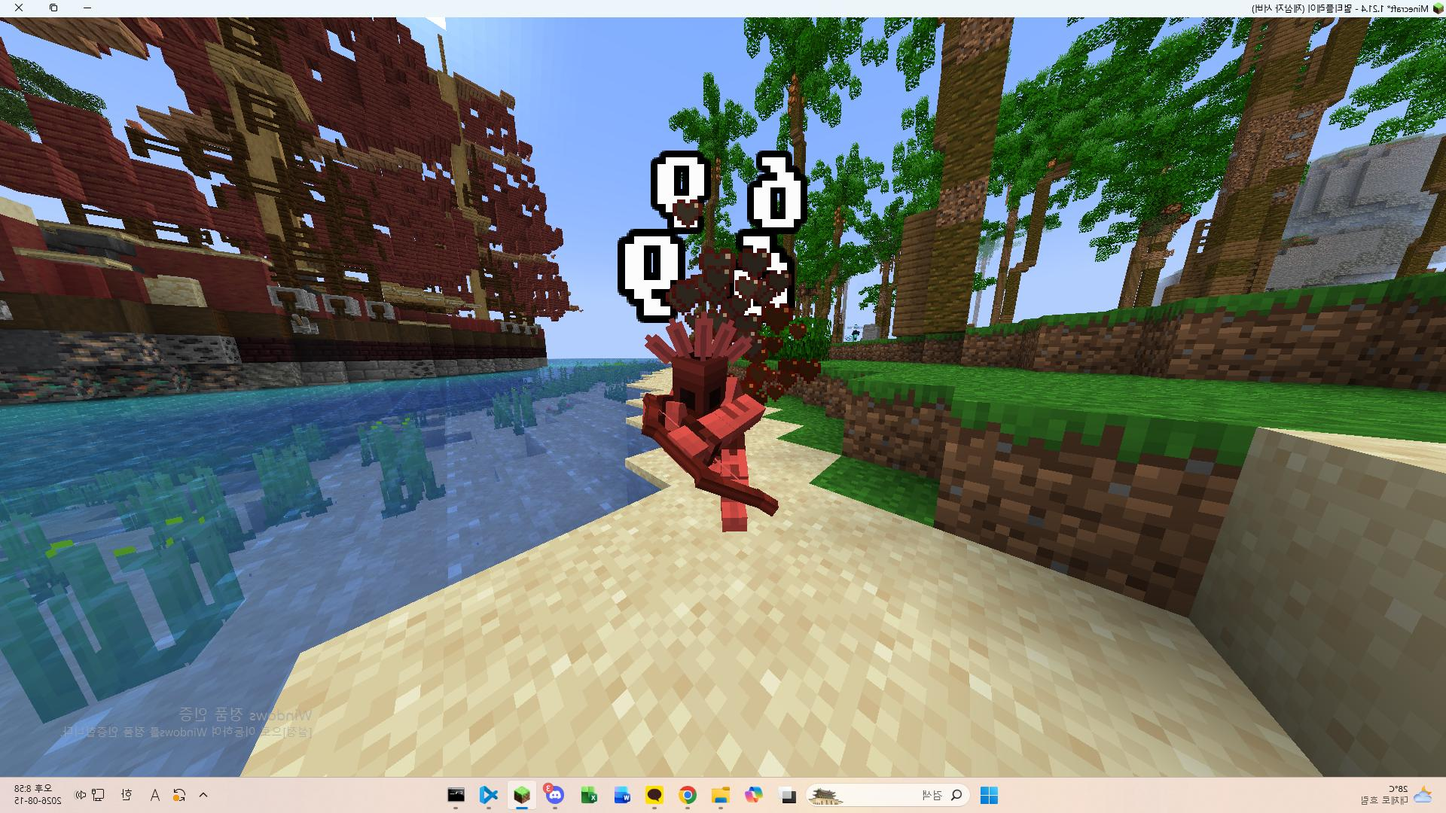bow_indian: (591, 308, 827, 548)
